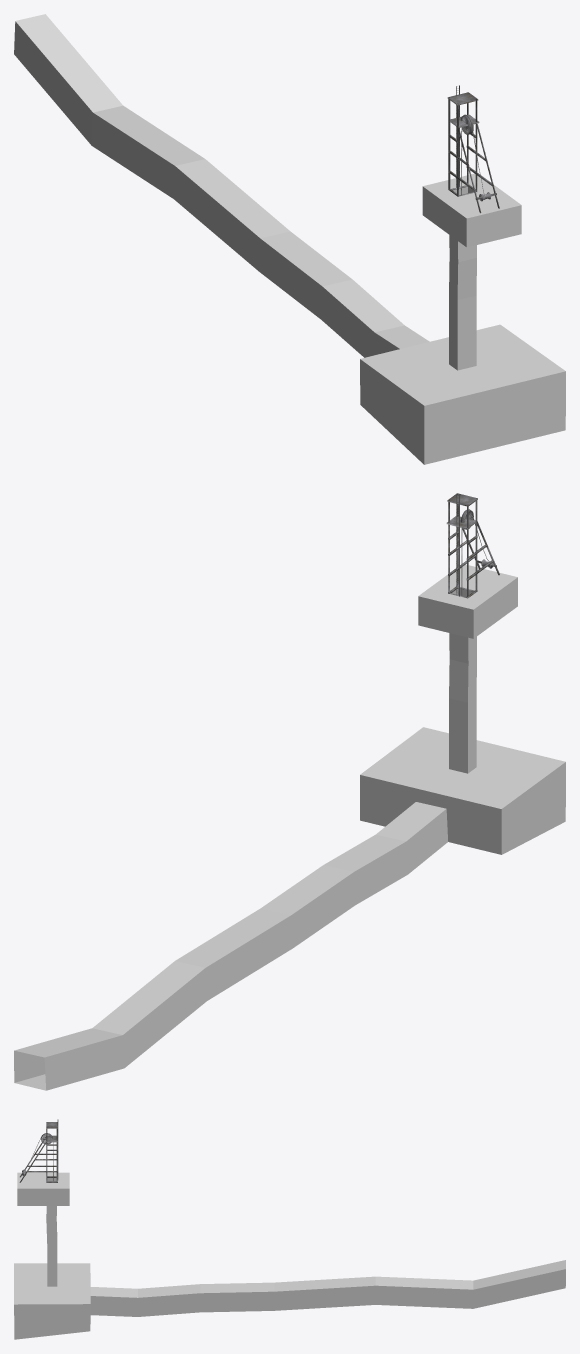
File: Mine.fbx
3 views of the same model, one above another, from view 1: azimuth 30°, elevation 25°; view 2: azimuth 150°, elevation 25°; view 3: azimuth 270°, elevation 25° (orthographic). The views are drawn at different scales.
Parts seen in each view (by area): view 1: Cube, Cylinder.047; view 2: Cube, Cylinder.047; view 3: Cube, Cylinder.047.
Boxes of the visible parts, box(x1,y1,x2,y2) form: Cube: box(14, 14, 565, 464); Cylinder.047: box(447, 85, 499, 213); Cube: box(14, 564, 565, 1090); Cylinder.047: box(446, 493, 499, 598); Cube: box(14, 1172, 565, 1339); Cylinder.047: box(19, 1119, 58, 1182).
Size of the model in its own units: 3338 by 7531 by 18899.
